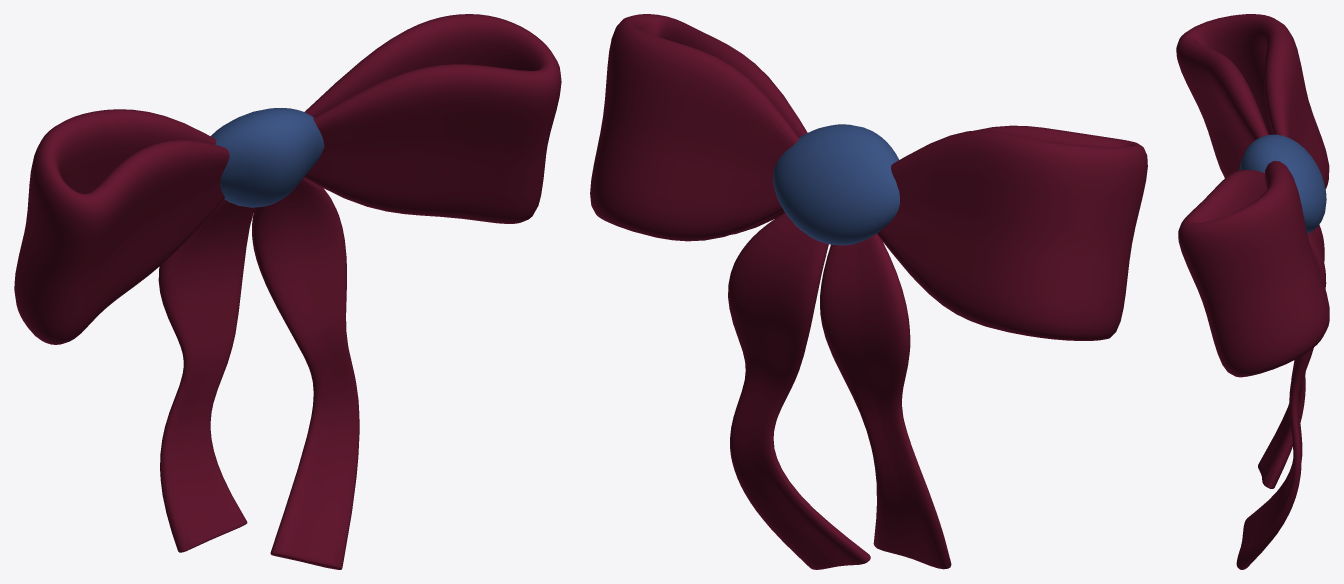
Rendered from 8_fiocco.glb.
The picture shows the model from 3 angles, left to right: view 1: azimuth 30°, elevation 25°; view 2: azimuth 150°, elevation 25°; view 3: azimuth 270°, elevation 25°; orthographic projection. The views are drawn at different scales.
Parts seen in each view (by area): view 1: Hair_ribbon_left1, Hair_ribbon_right1, Hair_ribbon_left2, Hair_ribbon_right2, Hair_ribbon_Hair_ribbon_blue_0; view 2: Hair_ribbon_right1, Hair_ribbon_left1, Hair_ribbon_left2, Hair_ribbon_right2, Hair_ribbon_Hair_ribbon_blue_0; view 3: Hair_ribbon_left1, Hair_ribbon_right1, Hair_ribbon_left2, Hair_ribbon_Hair_ribbon_blue_0, Hair_ribbon_right2.
Part boxes in pixels (box(x1,y1,x2,y2)): Hair_ribbon_left1: box(304, 14, 561, 223); Hair_ribbon_right1: box(14, 109, 229, 344); Hair_ribbon_left2: box(252, 178, 359, 569); Hair_ribbon_right2: box(158, 199, 255, 552); Hair_ribbon_Hair_ribbon_blue_0: box(210, 108, 324, 207); Hair_ribbon_right1: box(877, 125, 1147, 340); Hair_ribbon_left1: box(590, 14, 807, 241); Hair_ribbon_left2: box(728, 212, 870, 569); Hair_ribbon_right2: box(820, 234, 951, 569); Hair_ribbon_Hair_ribbon_blue_0: box(773, 124, 899, 245); Hair_ribbon_left1: box(1178, 161, 1329, 377); Hair_ribbon_right1: box(1176, 14, 1329, 188); Hair_ribbon_left2: box(1236, 243, 1321, 569); Hair_ribbon_Hair_ribbon_blue_0: box(1239, 134, 1326, 233); Hair_ribbon_right2: box(1258, 224, 1326, 488).
Bounding box in the file's own units: 3.1 × 2.93 × 0.9139.
